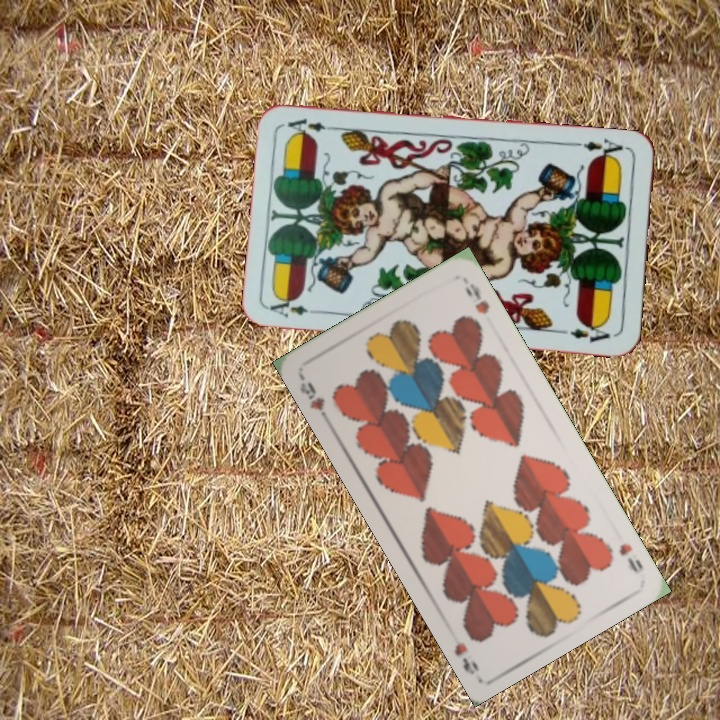EA: (266, 293, 325, 320), (571, 135, 625, 163)
H9: (295, 378, 333, 427), (615, 539, 646, 577)
